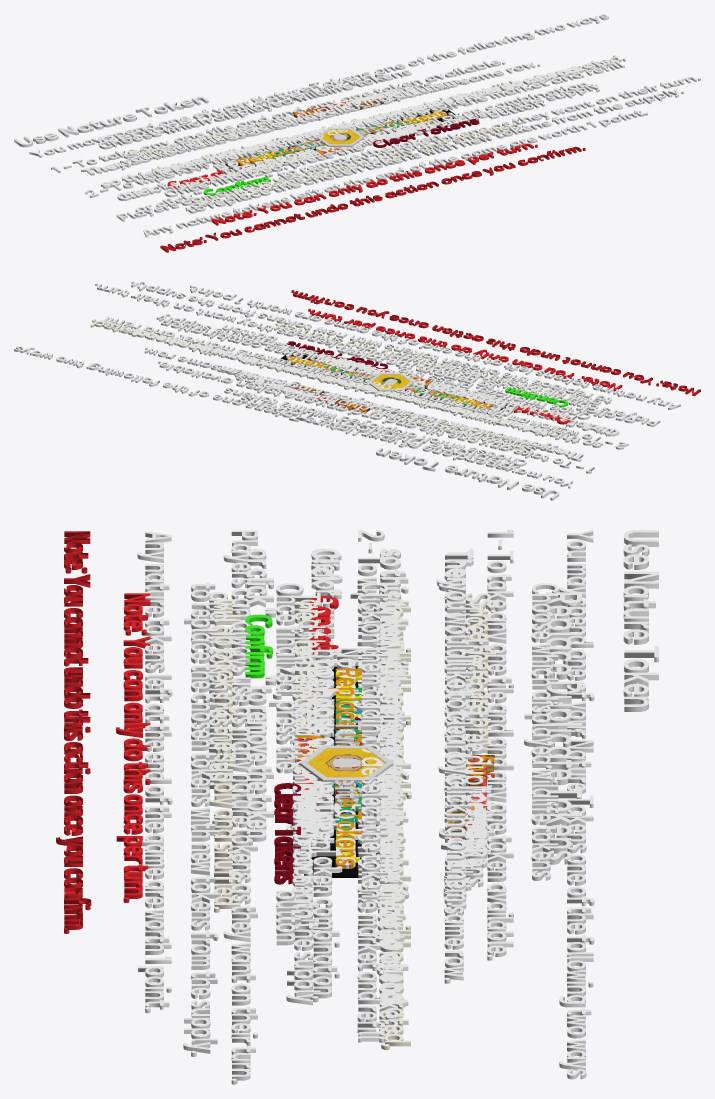
Rendered from cascadia3.glb.
The picture shows the model from 3 angles, top to bottom: view 1: azimuth 30°, elevation 25°; view 2: azimuth 150°, elevation 25°; view 3: azimuth 270°, elevation 25°; orthographic projection. The views are drawn at different scales.
Visible parts, largest first — view 1: use-nature-token, nature-clear, duplicate3, nature-no-valid-placement, all-duplicate-token, no-valid-placement, last-turn, replace, nature-turn-token, all-duplicate-token-salmon; view 2: use-nature-token, nature-clear, duplicate3, nature-no-valid-placement, all-duplicate-token, no-valid-placement, last-turn, replace, nature-turn-token, all-duplicate-token-salmon; view 3: use-nature-token, nature-clear, duplicate3, no-valid-placement, nature-no-valid-placement, all-duplicate-token, last-turn, replace, nature-turn-token, all-duplicate-token-salmon, desert, all-duplicate-token-fox (+2 smaller).
Boxes of the visible parts, x1=… form: use-nature-token: x1=14, y1=14, x2=700, y2=252; nature-clear: x1=99, y1=70, x2=684, y2=213; duplicate3: x1=99, y1=59, x2=619, y2=225; nature-no-valid-placement: x1=81, y1=66, x2=583, y2=211; all-duplicate-token: x1=129, y1=55, x2=625, y2=205; no-valid-placement: x1=82, y1=65, x2=593, y2=210; last-turn: x1=194, y1=83, x2=516, y2=180; replace: x1=222, y1=109, x2=455, y2=172; nature-turn-token: x1=213, y1=111, x2=450, y2=170; all-duplicate-token-salmon: x1=295, y1=86, x2=436, y2=153; use-nature-token: x1=14, y1=283, x2=700, y2=500; nature-clear: x1=131, y1=281, x2=611, y2=466; duplicate3: x1=101, y1=308, x2=622, y2=470; nature-no-valid-placement: x1=134, y1=329, x2=635, y2=461; all-duplicate-token: x1=90, y1=319, x2=591, y2=452; no-valid-placement: x1=132, y1=318, x2=633, y2=459; last-turn: x1=199, y1=335, x2=530, y2=426; replace: x1=281, y1=352, x2=506, y2=413; nature-turn-token: x1=286, y1=355, x2=513, y2=416; all-duplicate-token-salmon: x1=254, y1=354, x2=429, y2=410; use-nature-token: x1=56, y1=529, x2=658, y2=1084; nature-clear: x1=183, y1=582, x2=559, y2=1056; duplicate3: x1=116, y1=592, x2=581, y2=1042; no-valid-placement: x1=245, y1=549, x2=473, y2=1006; nature-no-valid-placement: x1=245, y1=548, x2=473, y2=1006; all-duplicate-token: x1=207, y1=599, x2=496, y2=1050; last-turn: x1=285, y1=640, x2=404, y2=941; replace: x1=304, y1=666, x2=377, y2=877; nature-turn-token: x1=332, y1=648, x2=363, y2=872; all-duplicate-token-salmon: x1=298, y1=738, x2=494, y2=868; desert: x1=307, y1=748, x2=385, y2=777; all-duplicate-token-fox: x1=296, y1=735, x2=494, y2=840.
Bounding box in the file's own units: 30.65 × 0.2101 × 14.16.
Materials: 40 (40 with a texture image).
